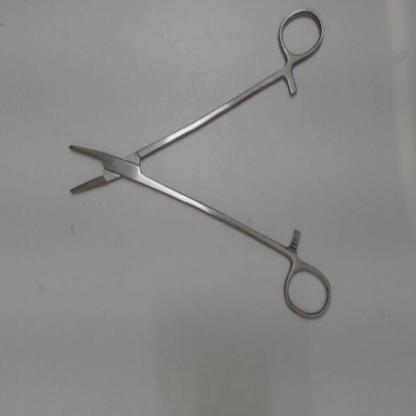8 Mayo Needle Holder: (56, 0, 339, 327)
